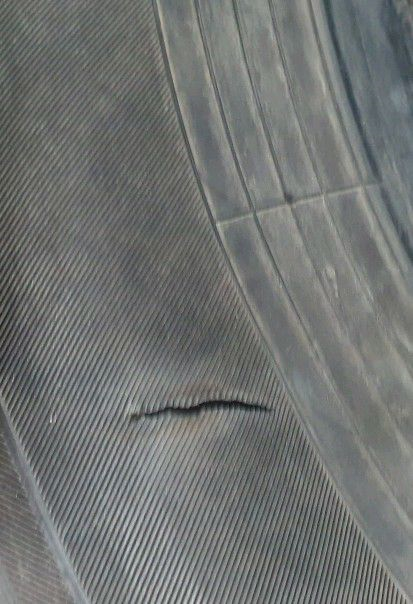cut: (126, 395, 277, 421)
